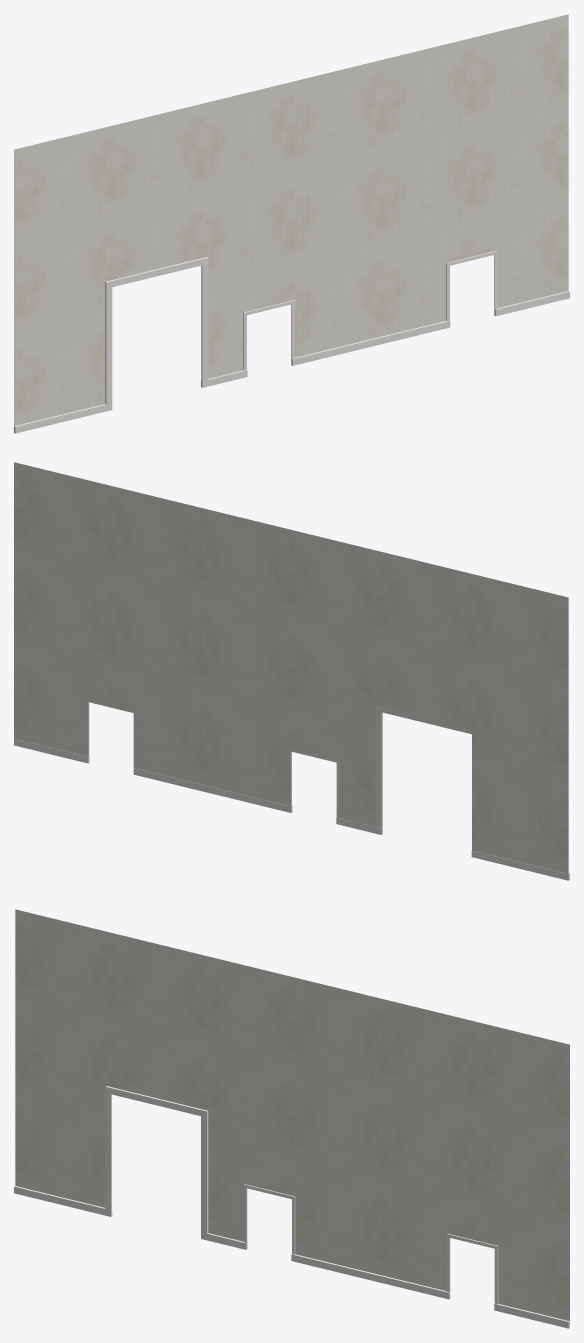
3 renders of one model, top to bottom at view 1: azimuth 30°, elevation 25°; view 2: azimuth 150°, elevation 25°; view 3: azimuth 330°, elevation 25°, orthographic.
Parts seen in each view (by area): view 1: jx_wm_12_9a2b1e6f; view 2: jx_wm_12_9a2b1e6f; view 3: jx_wm_12_9a2b1e6f.
Part boxes in pixels (x1,y1,x2,y2): jx_wm_12_9a2b1e6f: (14, 14, 569, 433); jx_wm_12_9a2b1e6f: (14, 462, 569, 880); jx_wm_12_9a2b1e6f: (14, 909, 569, 1328).
Size of the model in its own units: 12.3 by 6 by 0.05.
2 materials, 2 textured.
